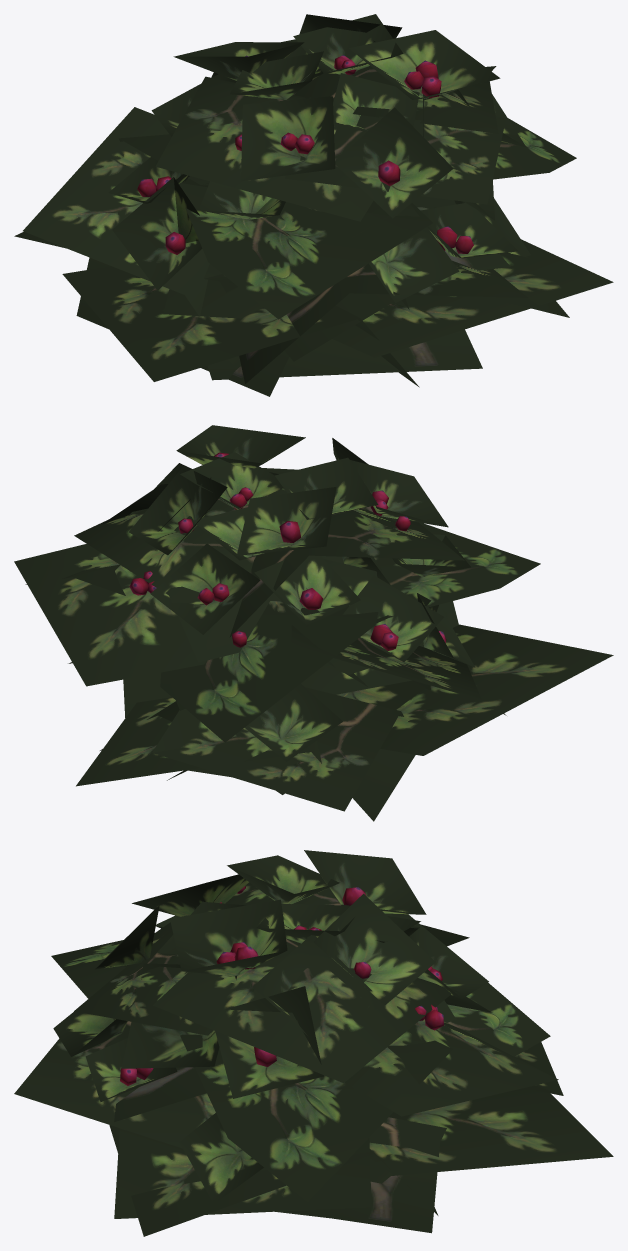
Rendered from yintao.FBX.
3 renders of one model, top to bottom at view 1: azimuth 30°, elevation 25°; view 2: azimuth 150°, elevation 25°; view 3: azimuth 270°, elevation 25°, orthographic. The views are drawn at different scales.
Parts seen in each view (by area): view 1: yintaoshu, yintaoguo; view 2: yintaoshu, yintaoguo; view 3: yintaoshu, yintaoguo.
Part boxes in pixels (left/top/right/bottom): yintaoshu: left=14, top=14, right=613, bottom=396; yintaoguo: left=137, top=55, right=473, bottom=254; yintaoshu: left=14, top=425, right=613, bottom=821; yintaoguo: left=129, top=452, right=446, bottom=650; yintaoshu: left=14, top=850, right=613, bottom=1236; yintaoguo: left=120, top=886, right=443, bottom=1085.
Bounding box in the file's own units: 1.85 × 1.03 × 1.79.
